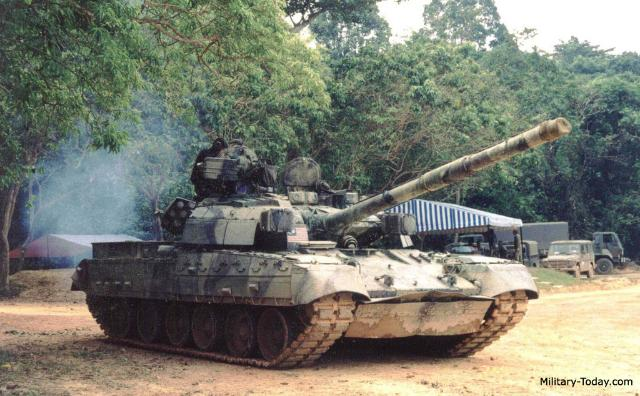other: (194, 136, 226, 187)
tank: (76, 179, 544, 355)
